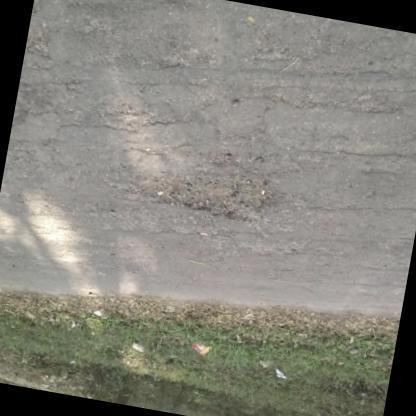pothole: (131, 165, 273, 222)
